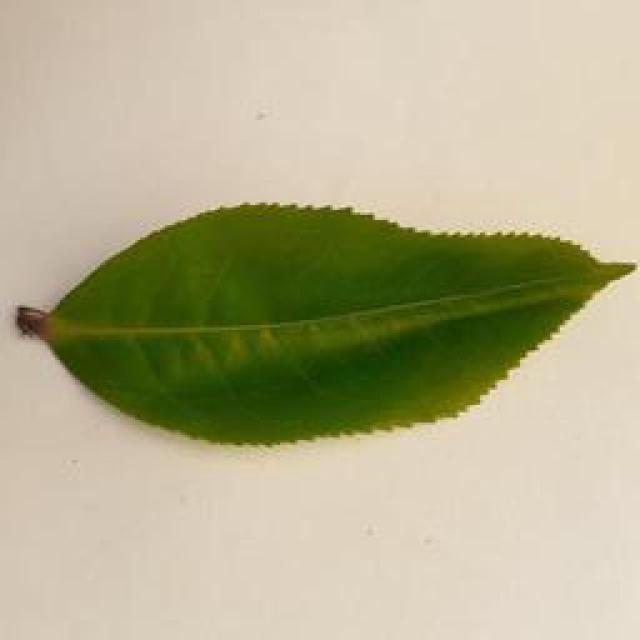Healthy: (0, 199, 640, 449)
